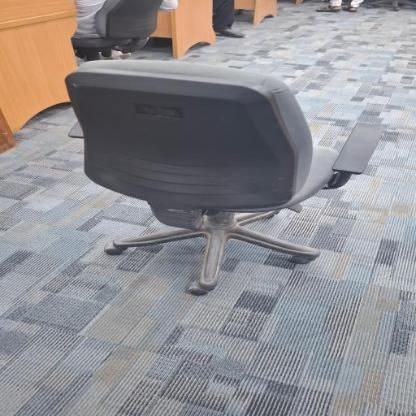chair: (61, 47, 395, 302)
